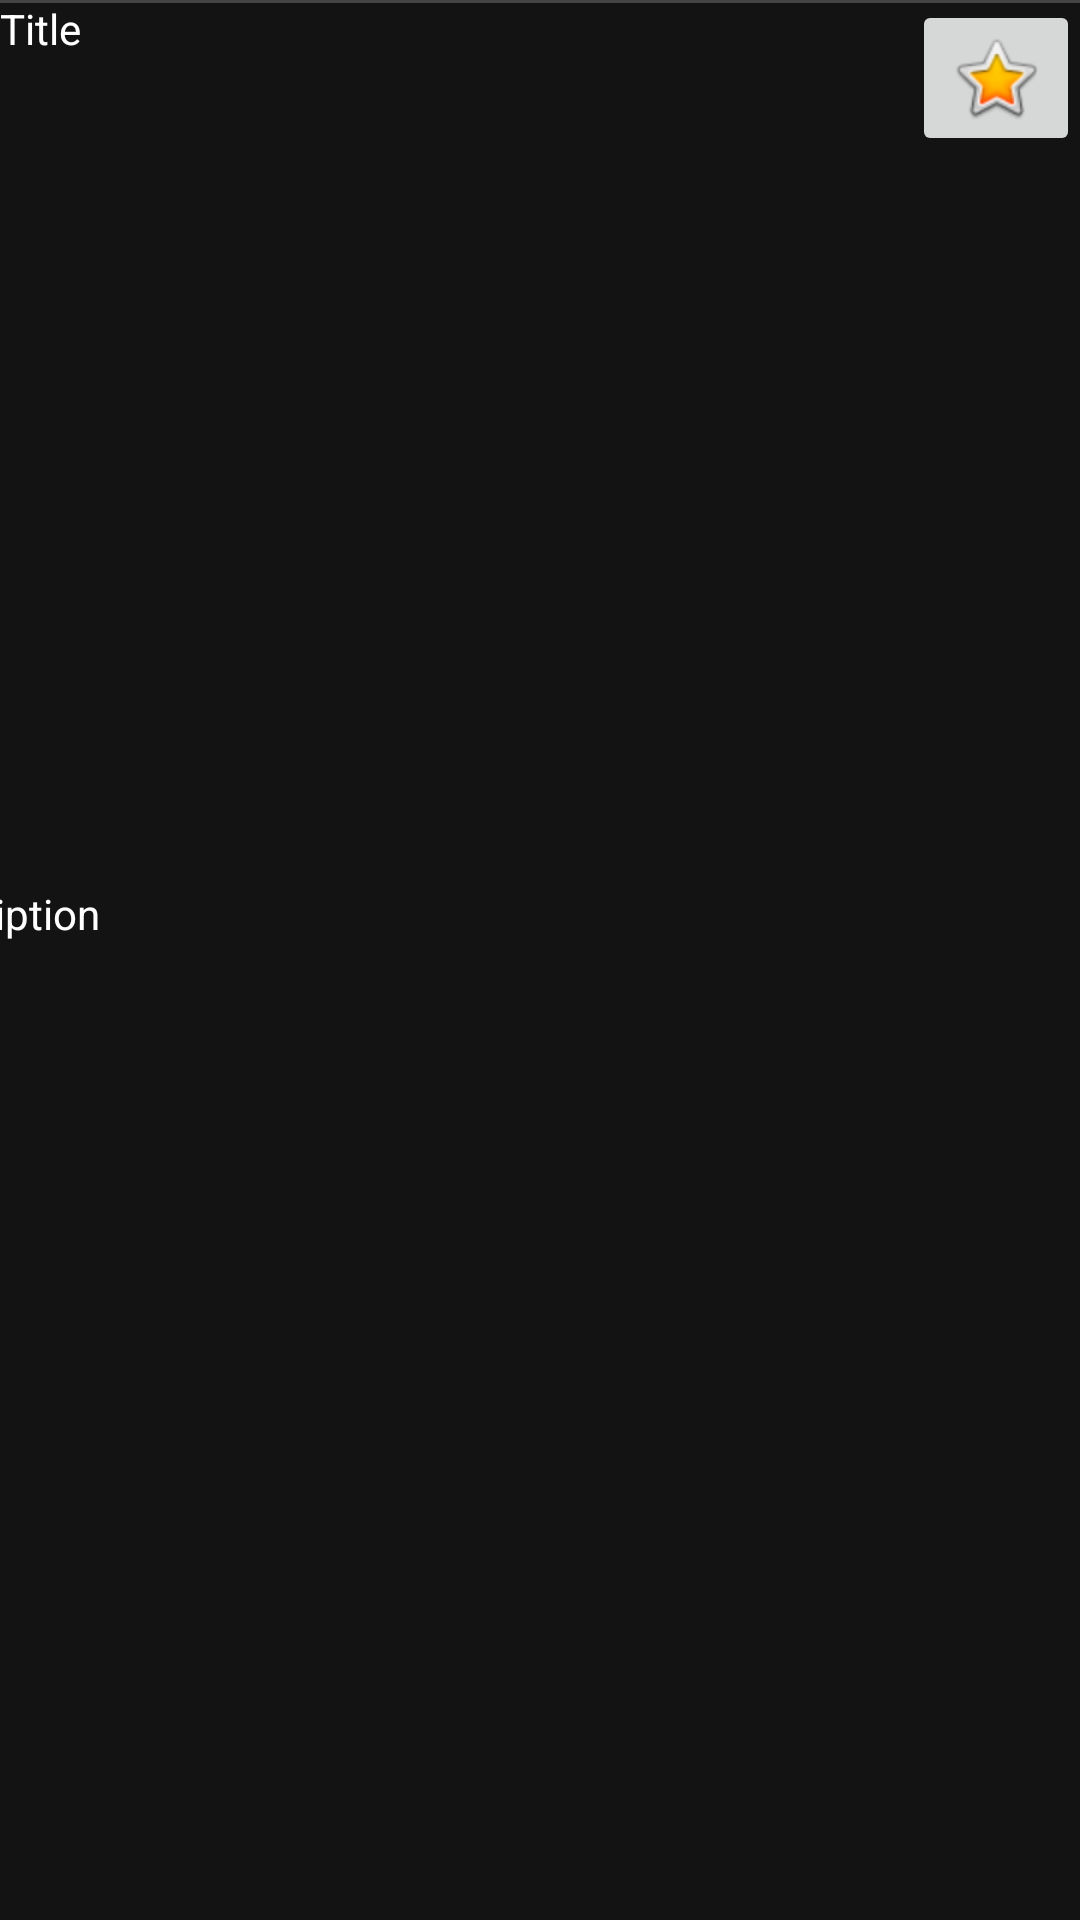

Locate icon controls on the screen. Image size 1080px x 1920px, boxes as (x1, y1, x2, y2).
star on: (924, 18, 1068, 138)
